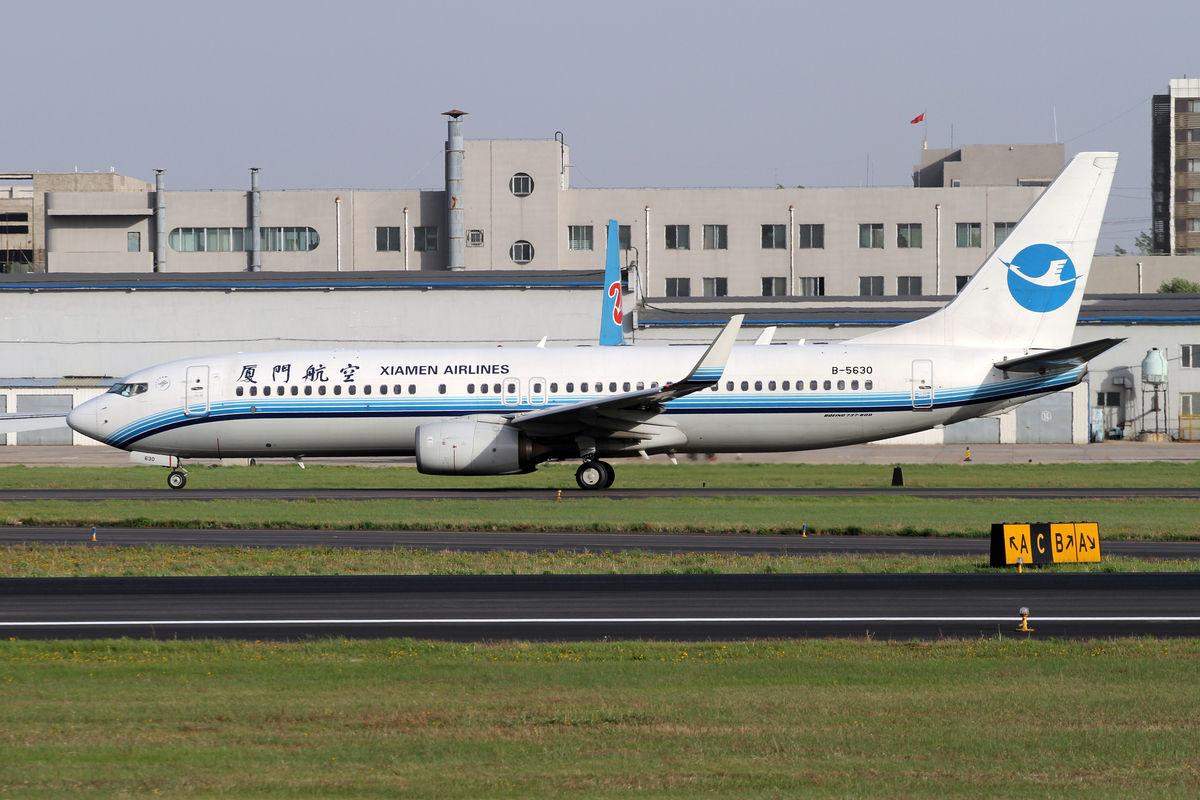airplane: (59, 142, 1136, 468)
